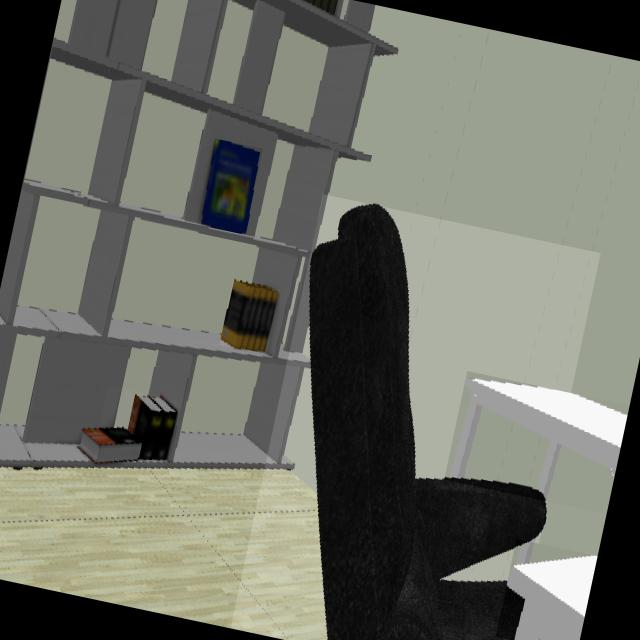book: (91, 395, 177, 468), (200, 139, 260, 234), (220, 280, 279, 353)
chair: (307, 204, 543, 640)
table: (448, 380, 627, 500), (506, 555, 597, 640)
